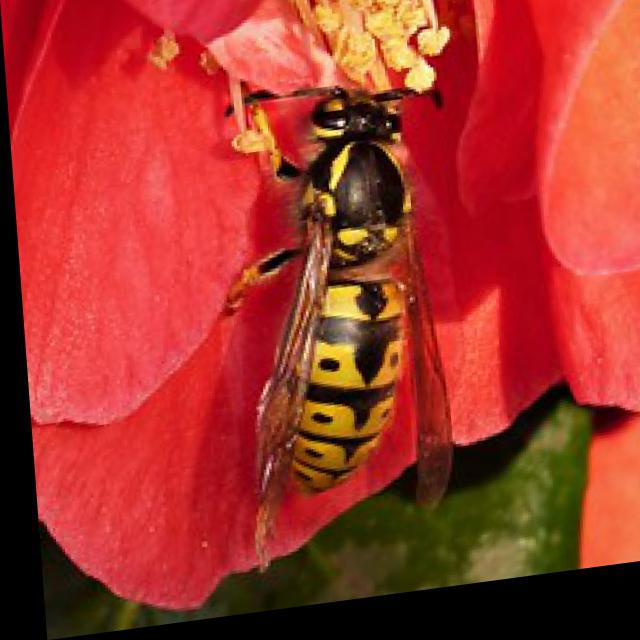Guepe: (214, 51, 507, 554)
